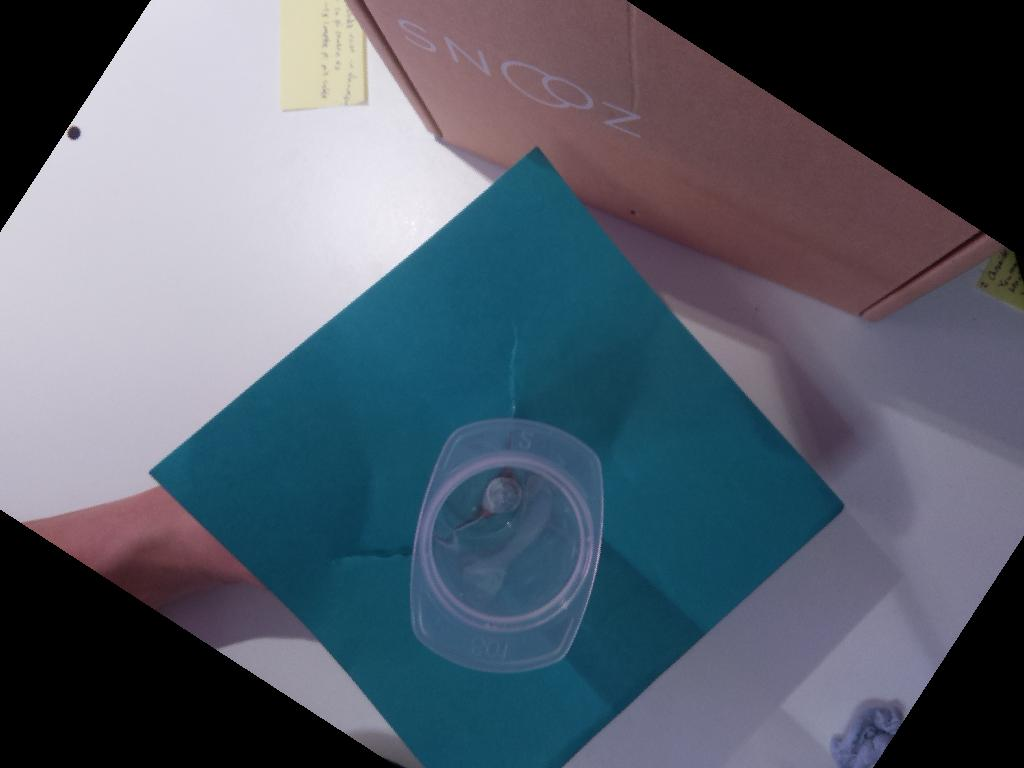clean: (409, 415, 604, 675)
